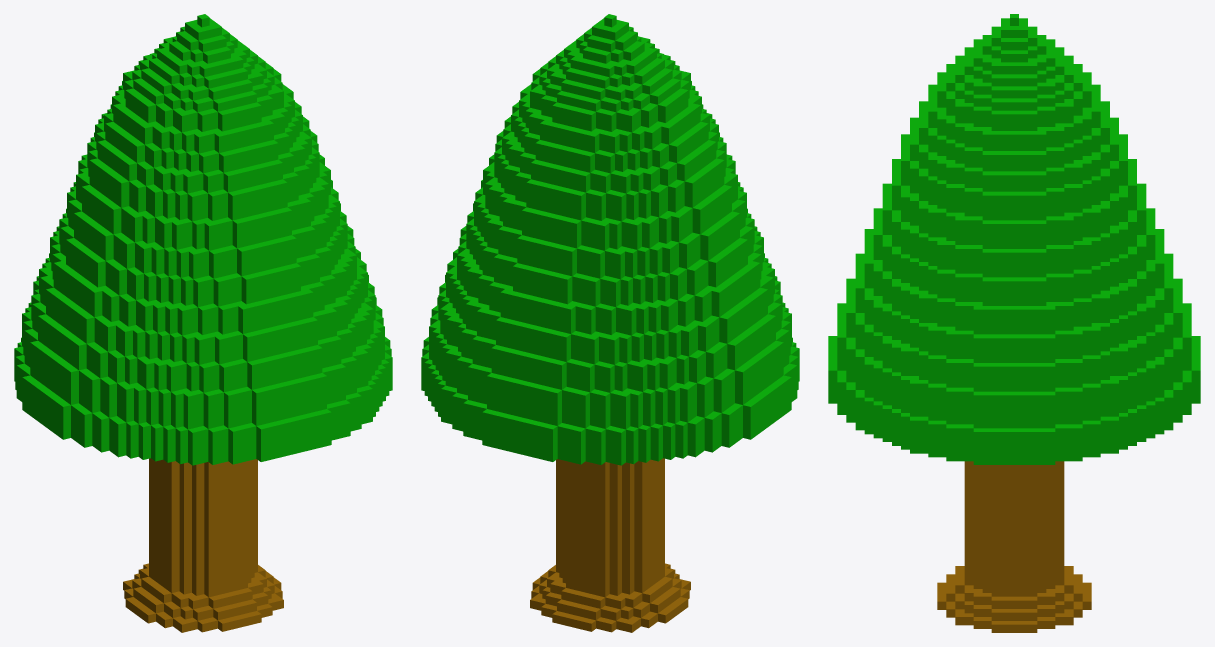
File: Spring Tree03-3.fbx
3 views of the same model, side by side, from view 1: azimuth 30°, elevation 25°; view 2: azimuth 150°, elevation 25°; view 3: azimuth 270°, elevation 25° (orthographic).
Visible parts, largest first — view 1: Tree03-3, Tree01-Stem, Tree01-Root; view 2: Tree03-3, Tree01-Stem, Tree01-Root; view 3: Tree03-3, Tree01-Stem, Tree01-Root.
Boxes of the visible parts, x1,y1,x2,y2 form: Tree03-3: [14, 14, 392, 465]; Tree01-Stem: [149, 458, 257, 597]; Tree01-Root: [123, 563, 283, 632]; Tree03-3: [421, 14, 799, 465]; Tree01-Stem: [556, 458, 664, 597]; Tree01-Root: [530, 563, 690, 632]; Tree03-3: [828, 14, 1200, 464]; Tree01-Stem: [964, 461, 1064, 596]; Tree01-Root: [937, 566, 1091, 632].
Bounding box in the file's own units: 410 × 710 × 410.
